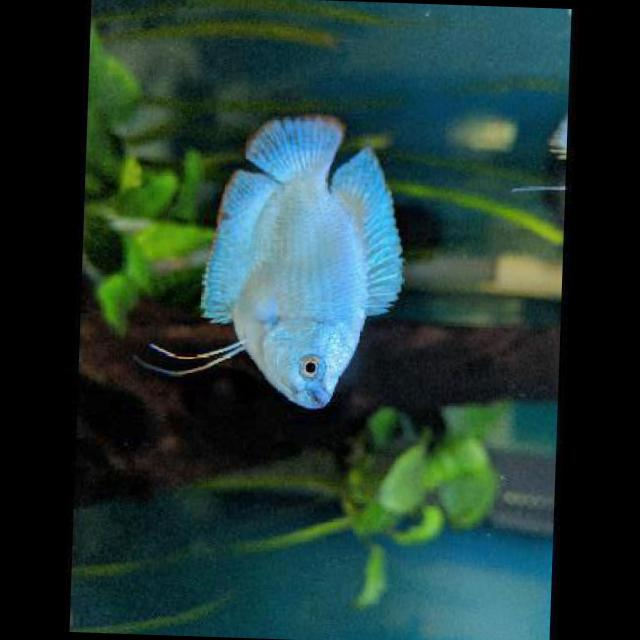Gourami: (188, 107, 414, 416)
